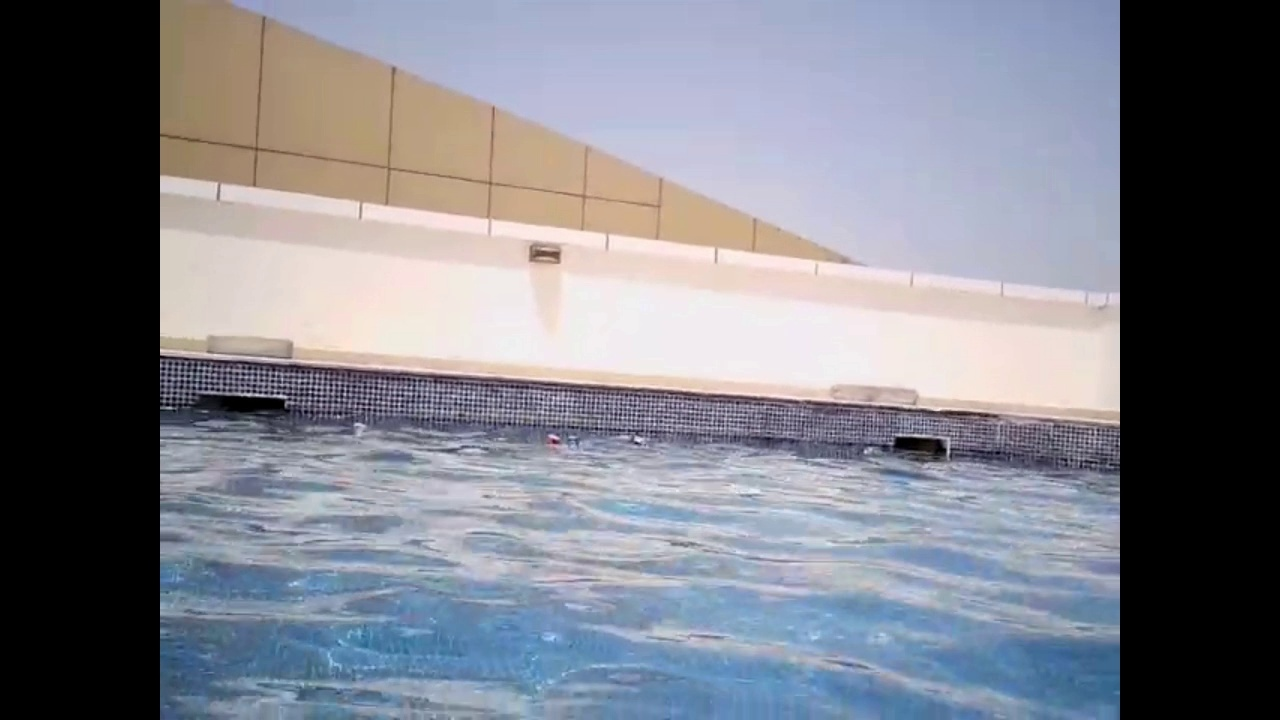debris: (623, 431, 652, 450), (556, 432, 580, 454), (350, 419, 370, 440), (540, 433, 560, 448)
